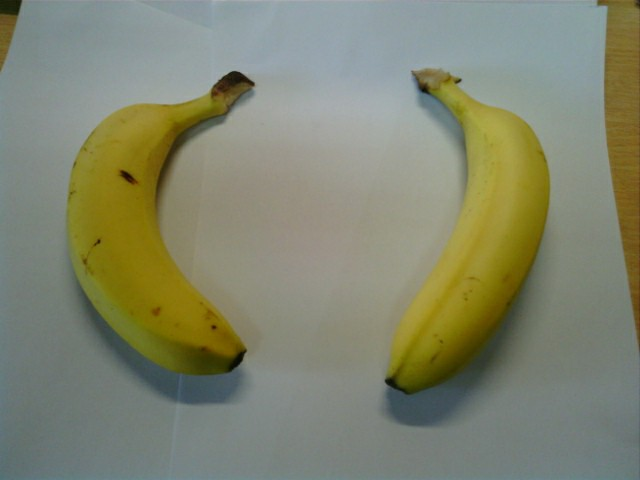fresh_banana: (383, 63, 551, 394)
normal_banana: (65, 81, 249, 375)
